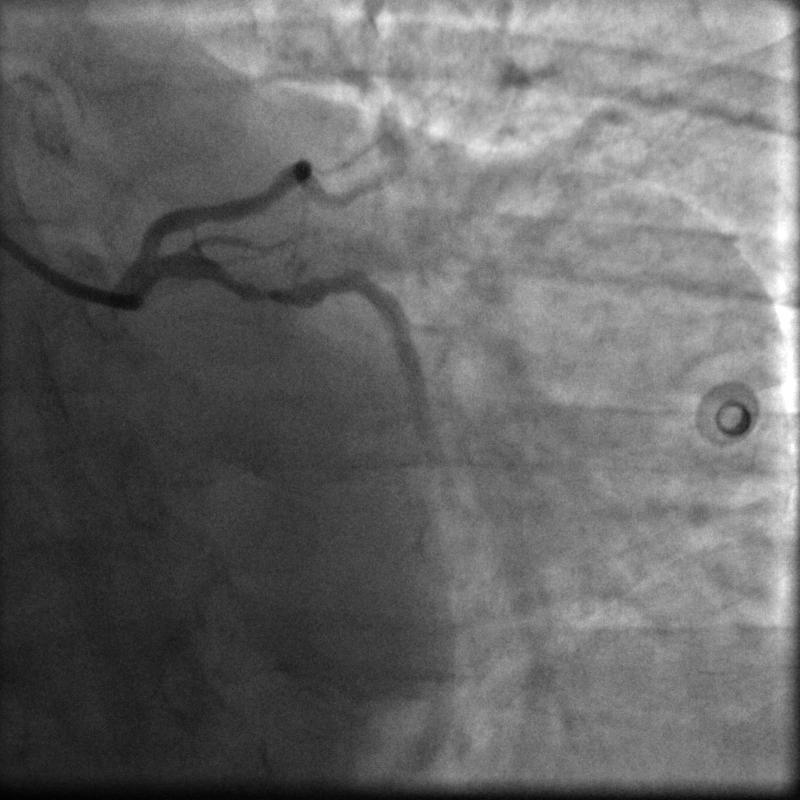Stenosis: (240, 273, 303, 313)
